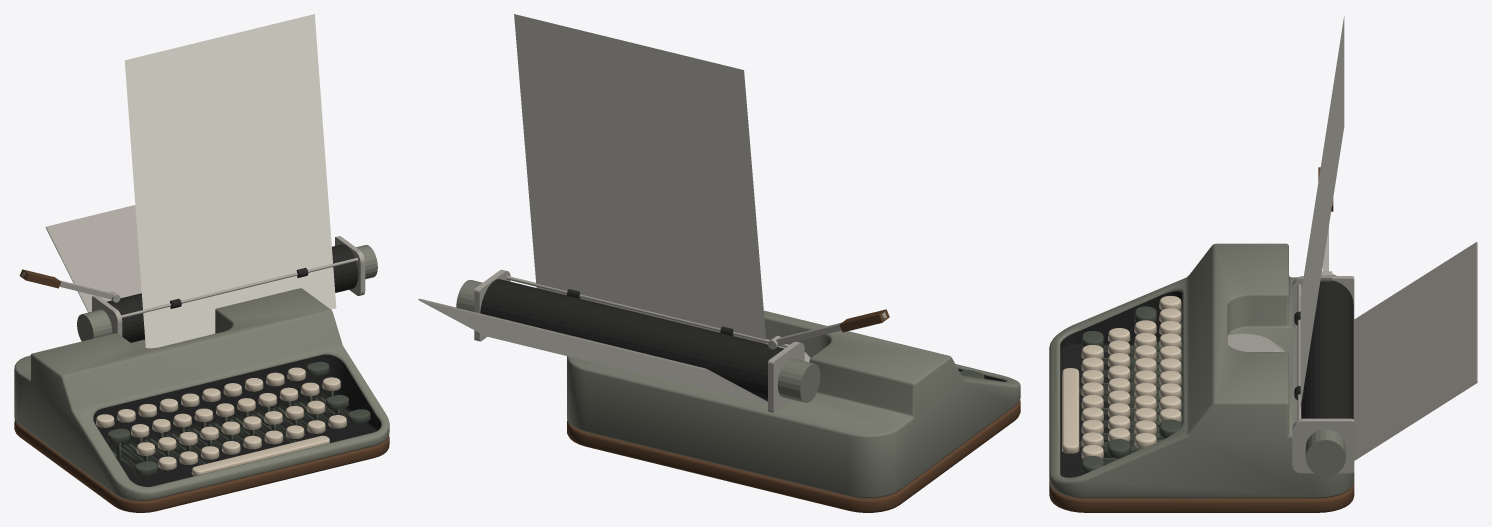
Rendered from typewriter.glb.
3 views of the same model, side by side, from view 1: azimuth 30°, elevation 25°; view 2: azimuth 150°, elevation 25°; view 3: azimuth 270°, elevation 25° (orthographic). The views are drawn at different scales.
Parts seen in each view (by area): view 1: Paper, Body, PaperTable, Base, PaperHolder, Platen, Key_Space, Knob_L, Lever, Key_Shift_L; view 2: Paper, Body, Platen, Base, PaperTable, PaperHolder, Knob_L, Lever; view 3: Body, PaperTable, Platen, Paper, Base, PaperHolder, Knob_R, Key_Space, TypebarBasket.
Part boxes in pixels (box(x1,y1,x2,y2)): Paper: box(124, 14, 336, 348); Body: box(14, 288, 389, 500); PaperTable: box(45, 205, 141, 312); Base: box(14, 419, 389, 512); PaperHolder: box(92, 236, 365, 336); Platen: box(107, 244, 358, 342); Key_Space: box(182, 424, 329, 475); Knob_L: box(77, 309, 112, 341); Lever: box(19, 269, 120, 302); Key_Shift_L: box(109, 445, 157, 476); Paper: box(514, 14, 766, 343); Body: box(567, 310, 1020, 498); Platen: box(480, 279, 784, 401); Base: box(567, 399, 1020, 512); PaperTable: box(418, 298, 767, 404); PaperHolder: box(474, 269, 804, 413); Knob_L: box(777, 358, 820, 402); Lever: box(767, 309, 889, 349); Body: box(1049, 243, 1354, 498); PaperTable: box(1353, 242, 1477, 460); Platen: box(1301, 280, 1353, 418); Paper: box(1293, 16, 1344, 425); Base: box(1049, 482, 1354, 512); PaperHolder: box(1292, 276, 1354, 473); Knob_R: box(1305, 429, 1345, 476); Key_Space: box(1062, 368, 1110, 453); TypebarBasket: box(1227, 333, 1284, 351).
Size of the model in its own units: 0.392 by 0.3591 by 0.3402.
